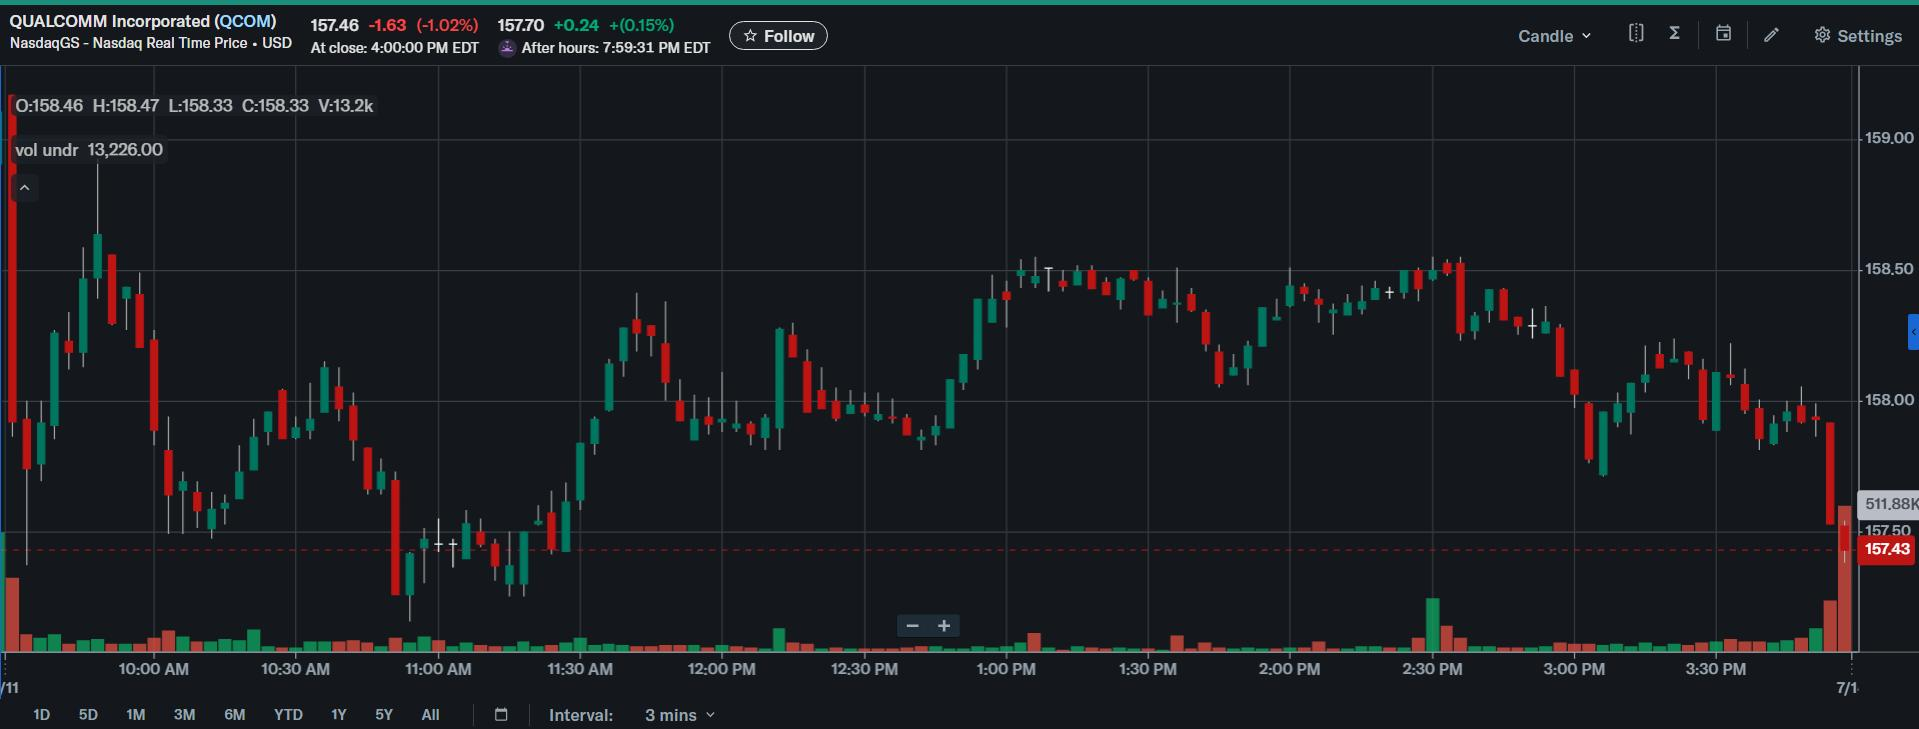Downtrend: (91, 161, 203, 539), (315, 347, 417, 631)
Sideways: (1257, 248, 1471, 355)
Uptrend: (497, 279, 643, 599), (203, 363, 337, 555), (926, 261, 1001, 456)
